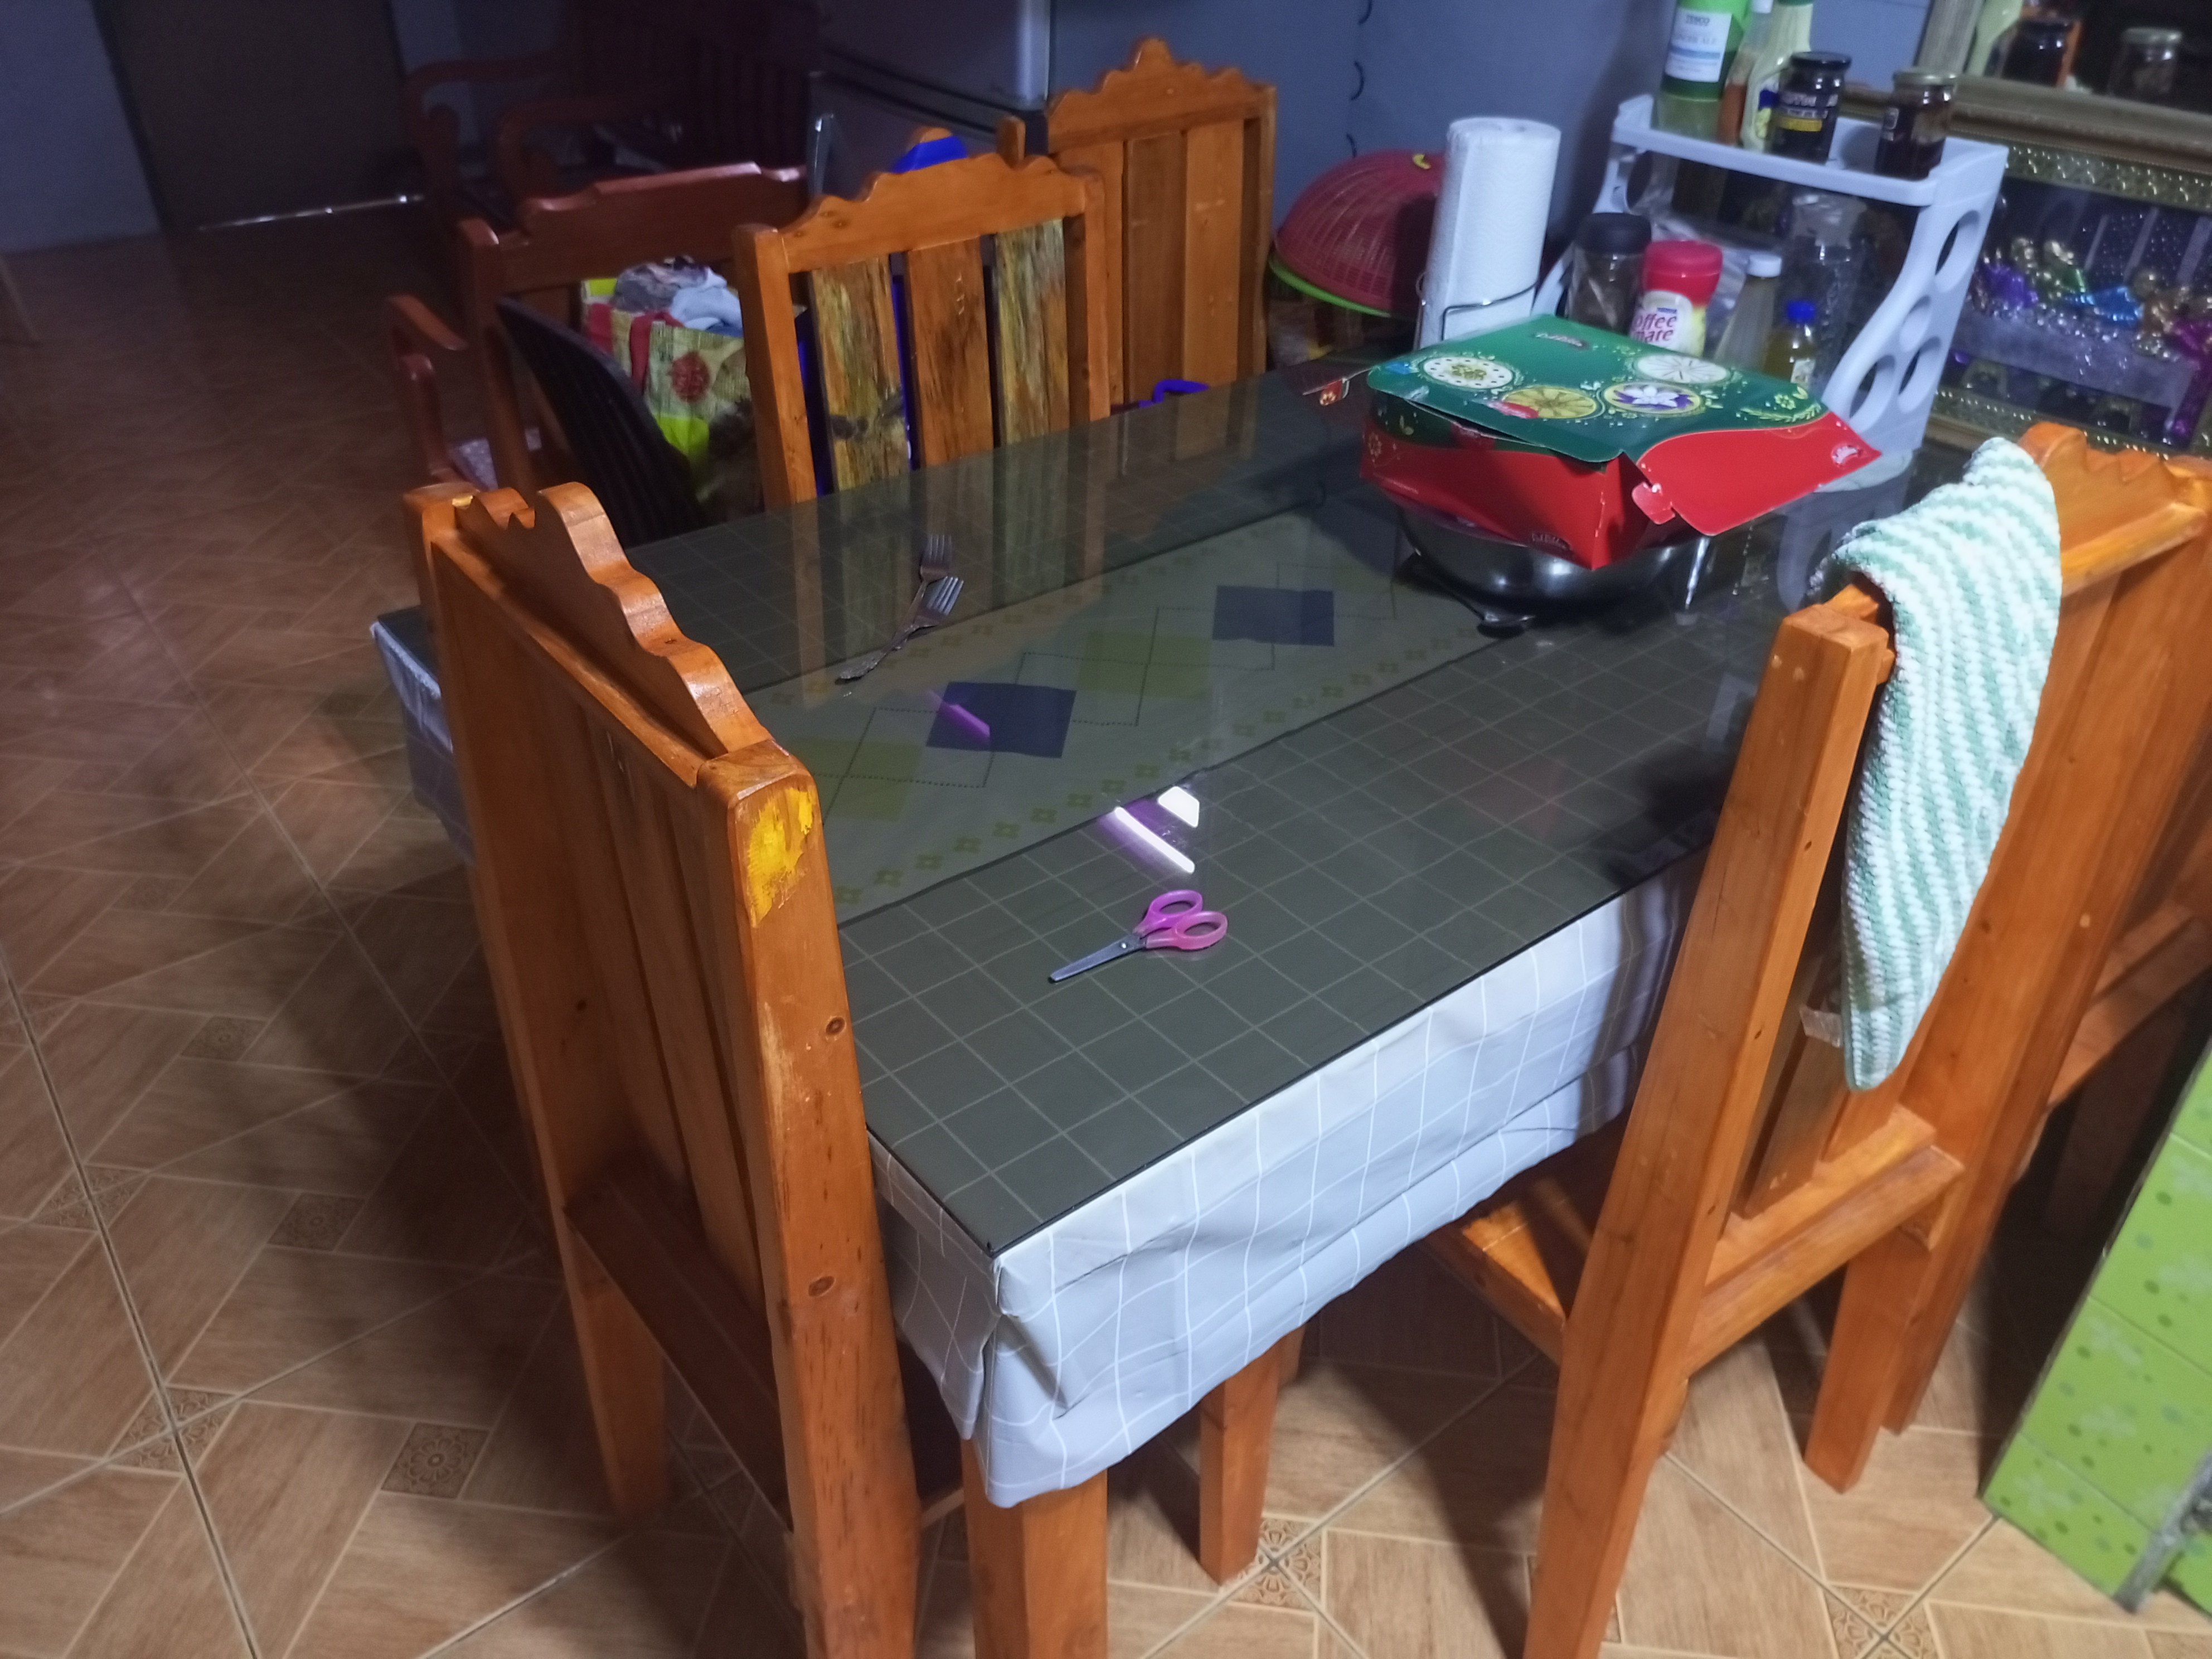scissor: (1052, 892, 1235, 986)
